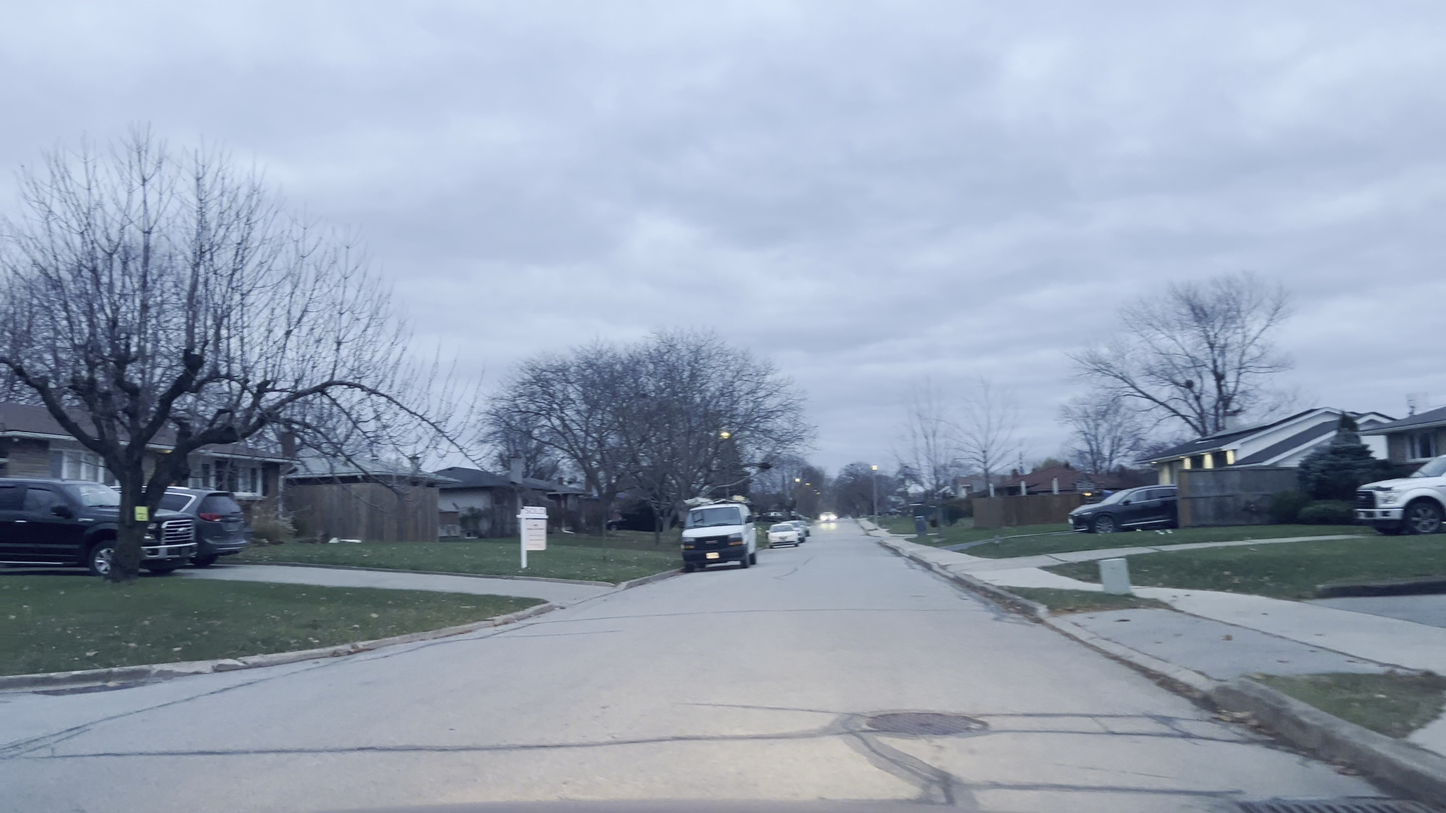cracks: (112, 734, 750, 762), (820, 708, 969, 805), (991, 772, 1235, 804), (1121, 701, 1213, 742)
